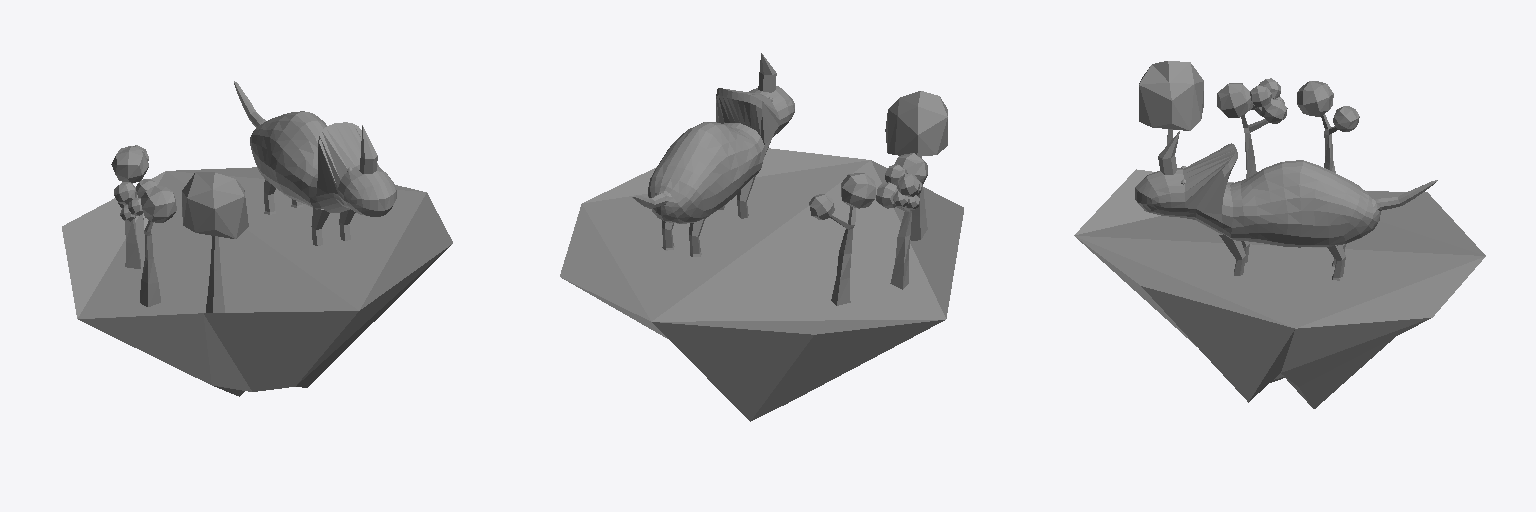
Rendered from Prehistoric_Island_1.obj.
3 renders of one model, left to right at view 1: azimuth 30°, elevation 25°; view 2: azimuth 150°, elevation 25°; view 3: azimuth 270°, elevation 25°, orthographic.
Visible parts, largest first — view 1: Cylinder020, Group38144, GeoSphere001, Box007, Box006, Box003, Box001, Box004, Cylinder025; view 2: Cylinder020, Group38144, GeoSphere001, Box004, Box007, Box003, Box006, Box001; view 3: Cylinder020, Group38144, GeoSphere001, Box003, Box006, Box007, Box005, Cylinder025.
Part boxes in pixels (x1,y1,x2,y2): Cylinder020: (62,167,452,396); Group38144: (234,81,396,216); GeoSphere001: (182,172,248,238); Box007: (140,213,160,306); Box006: (141,186,176,222); Box003: (111,146,148,182); Box001: (206,236,224,312); Box004: (125,183,140,268); Cylinder025: (359,125,377,173); Cylinder020: (560,148,963,421); Group38144: (632,86,794,223); GeoSphere001: (885,91,947,155); Box004: (830,206,855,305); Box007: (890,206,911,289); Box003: (841,173,875,208); Box006: (894,153,927,184); Box001: (910,156,927,240); Cylinder020: (1074,169,1485,408); Group38144: (1135,143,1437,247); GeoSphere001: (1139,61,1203,130); Box003: (1297,81,1333,116); Box006: (1217,83,1252,117); Box007: (1241,115,1268,178); Box005: (1333,106,1359,131); Cylinder025: (1158,131,1179,174).
Size of the model in its own units: 148 by 122 by 148.